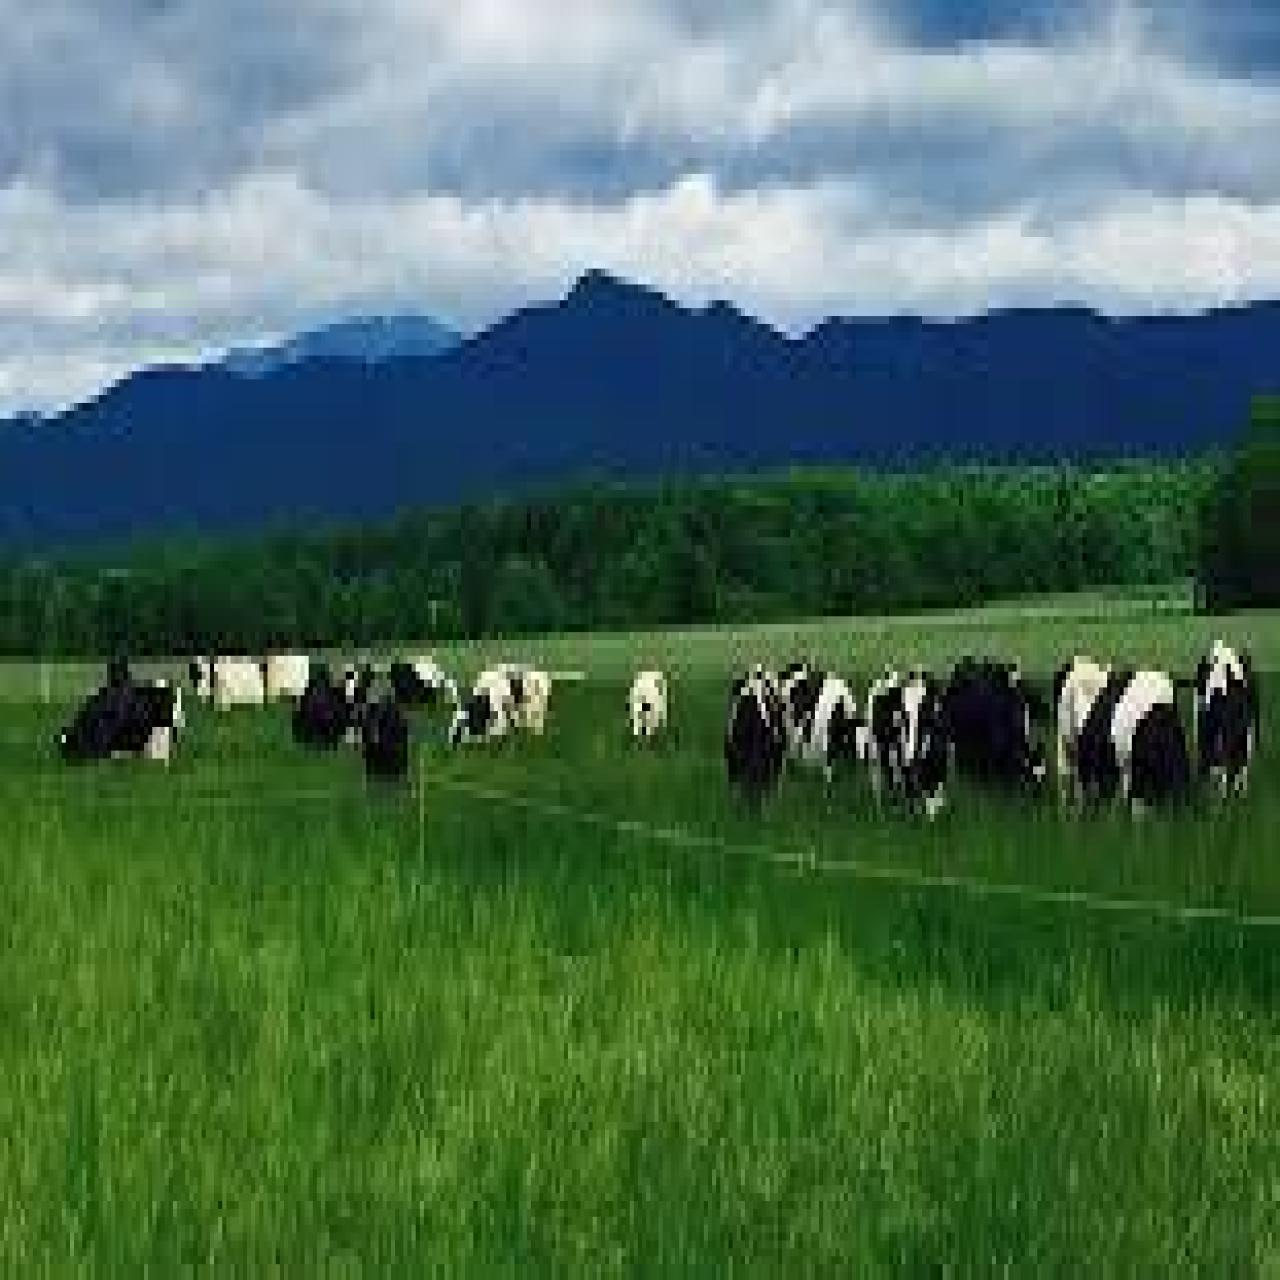cow: (860, 668, 955, 850), (1060, 660, 1175, 810), (779, 672, 866, 806), (1191, 644, 1258, 810), (724, 667, 790, 825), (57, 683, 185, 763), (438, 663, 553, 750), (348, 695, 409, 790), (626, 667, 667, 747), (210, 655, 264, 703), (267, 652, 308, 700)
